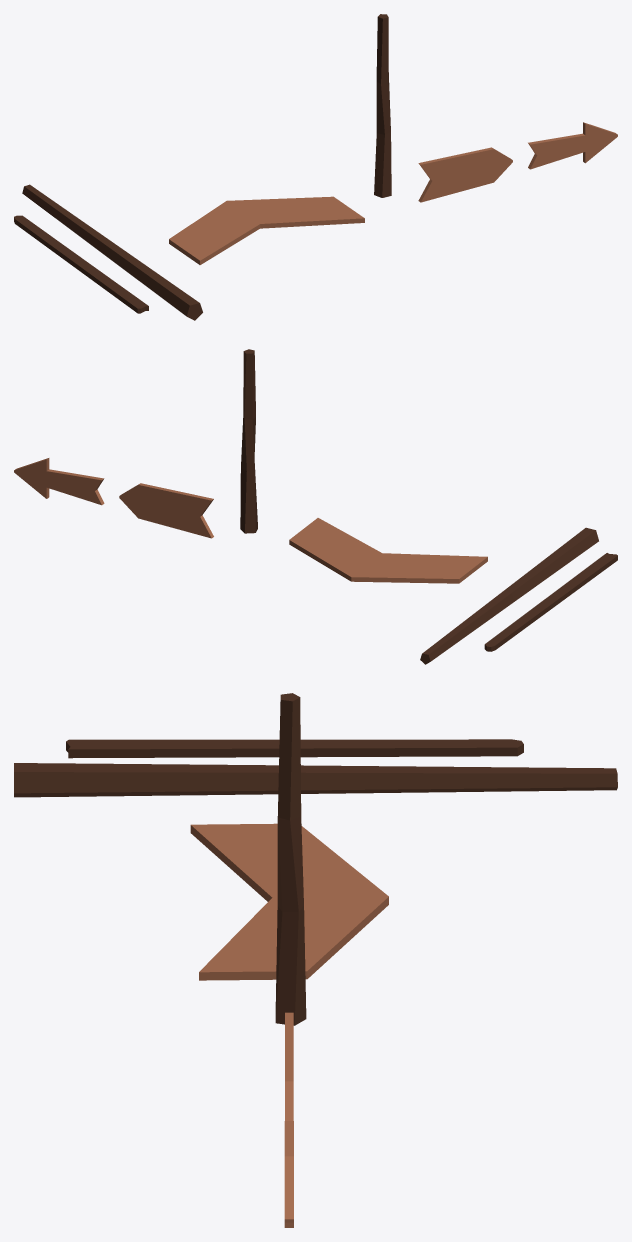
File: Pointers.fbx
3 renders of one model, top to bottom at view 1: azimuth 30°, elevation 25°; view 2: azimuth 150°, elevation 25°; view 3: azimuth 270°, elevation 25°, orthographic. The views are drawn at different scales.
Parts seen in each view (by area): view 1: Pointer_Floor, Board_01, Pointer_Pillar_02, Pillar_01, Pointer_Pillar_01, Board_02; view 2: Pointer_Floor, Board_01, Pointer_Pillar_02, Pillar_01, Pointer_Pillar_01, Board_02; view 3: Board_01, Pointer_Floor, Pillar_01, Board_02, Pointer_Pillar_01, Pointer_Pillar_02.
Part boxes in pixels (x1=…): Pointer_Floor: x1=169, y1=196, x2=364, y2=264; Board_01: x1=22, y1=184, x2=202, y2=320; Pointer_Pillar_02: x1=418, y1=147, x2=512, y2=202; Pillar_01: x1=374, y1=14, x2=391, y2=197; Pointer_Pillar_01: x1=528, y1=122, x2=617, y2=169; Board_02: x1=14, y1=215, x2=148, y2=313; Pointer_Floor: x1=289, y1=518, x2=487, y2=583; Board_01: x1=420, y1=527, x2=598, y2=664; Pointer_Pillar_02: x1=119, y1=483, x2=213, y2=538; Pillar_01: x1=240, y1=349, x2=257, y2=533; Pointer_Pillar_01: x1=14, y1=458, x2=104, y2=505; Board_02: x1=484, y1=553, x2=617, y2=651; Board_01: x1=14, y1=763, x2=617, y2=797; Pointer_Floor: x1=190, y1=823, x2=388, y2=980; Pillar_01: x1=275, y1=693, x2=306, y2=1025; Board_02: x1=66, y1=739, x2=523, y2=758; Pointer_Pillar_01: x1=284, y1=1121, x2=293, y2=1227; Pointer_Pillar_02: x1=285, y1=1012, x2=293, y2=1120.
Bounding box in the file's own units: 901 × 311 × 482.
